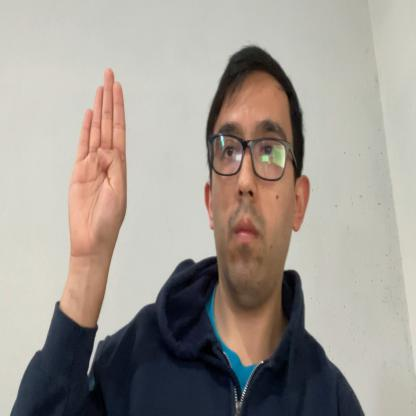B: (68, 66, 127, 261)
